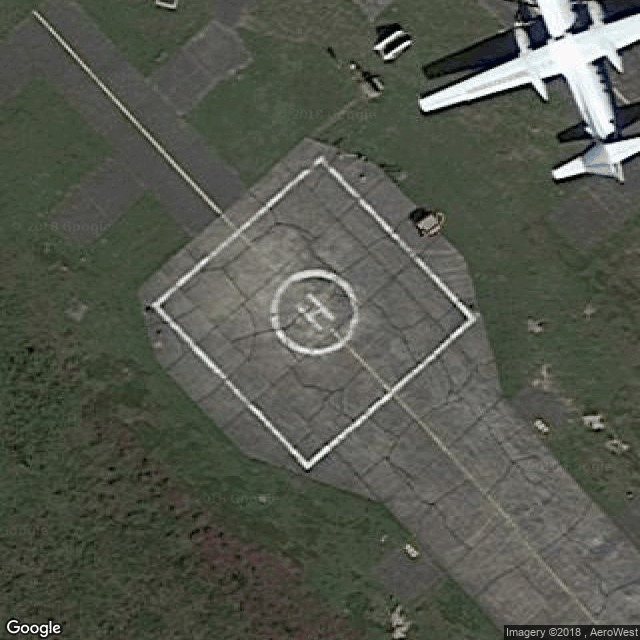heliport: (288, 290, 339, 333)
